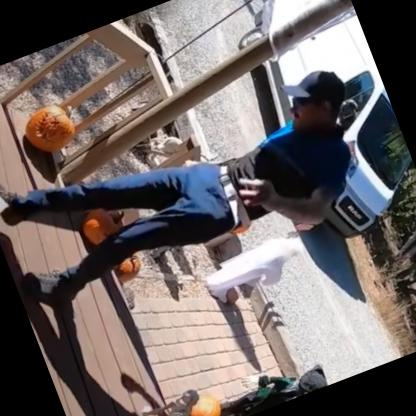Human Body: (0, 38, 400, 334)
